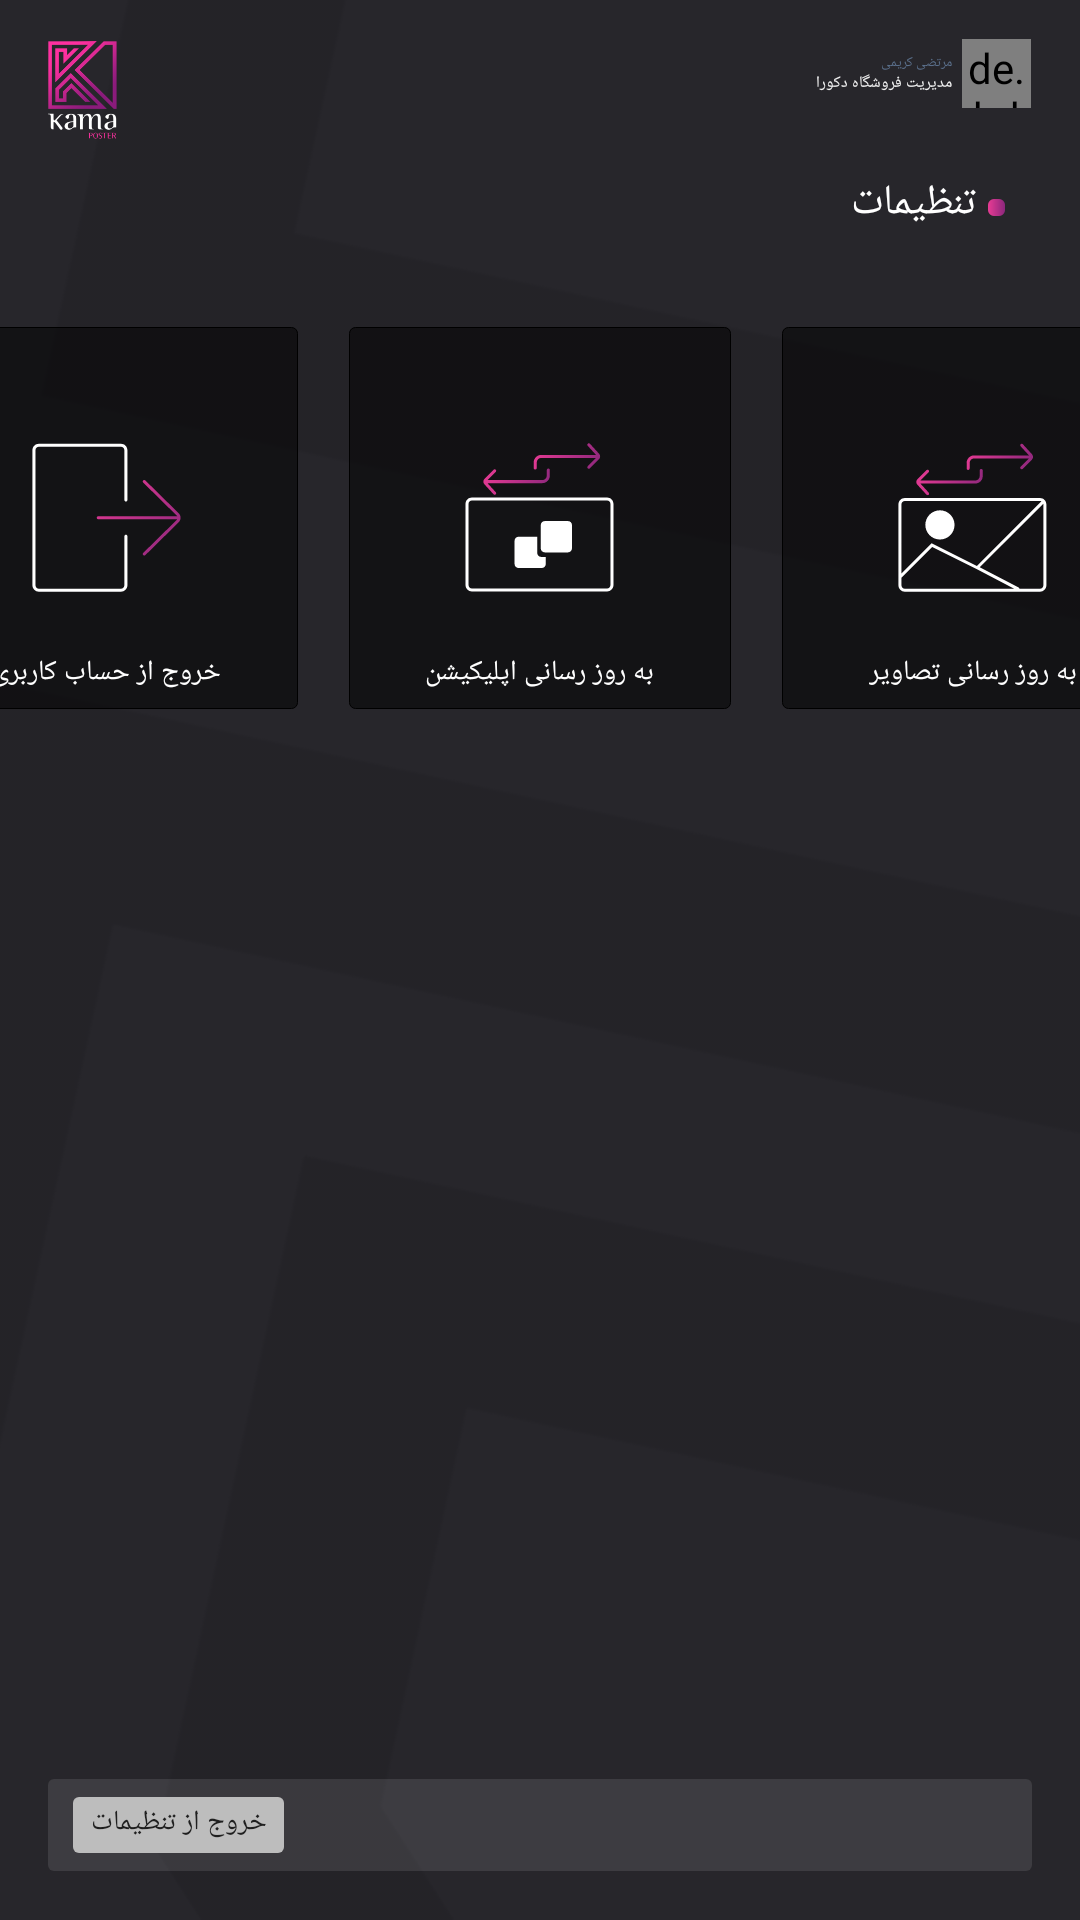

Named icons in this screenshot (1080 x 1920) and their centers, (x=x, y=y):
log out: (x=106, y=517)
photo update: (x=972, y=517)
update: (x=539, y=517)
